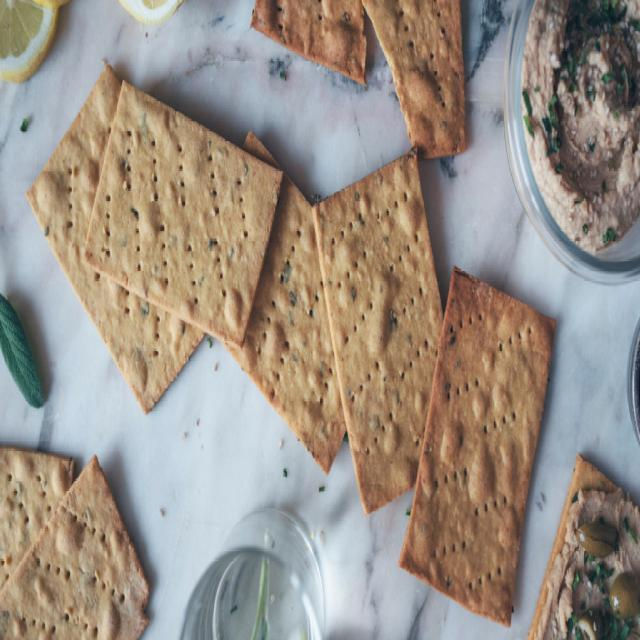Cracker: (319, 144, 473, 525), (408, 255, 558, 627), (93, 87, 287, 338)
